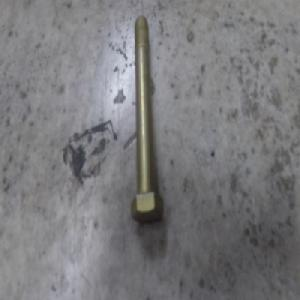Bolt: (128, 16, 164, 221)
